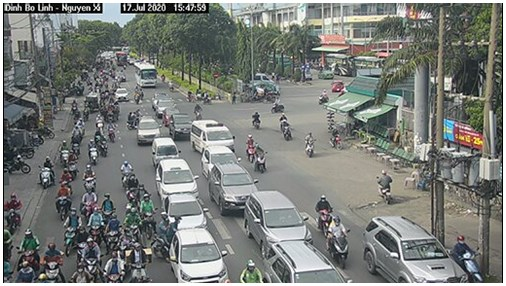xe_cuu_thuong: (189, 120, 235, 151)
xe_hoi: (362, 215, 465, 284), (241, 192, 313, 249), (170, 230, 229, 283), (208, 162, 258, 214), (155, 158, 202, 198), (163, 193, 210, 230), (200, 147, 238, 171), (150, 137, 180, 165), (137, 118, 162, 145), (169, 115, 190, 136)
xe_may: (454, 232, 485, 282), (325, 217, 353, 270), (42, 238, 66, 283), (60, 206, 82, 252), (127, 243, 153, 281), (18, 227, 40, 269), (4, 191, 26, 232), (140, 192, 158, 240), (84, 236, 104, 279), (102, 211, 122, 251), (121, 203, 142, 240), (314, 191, 332, 234), (373, 169, 395, 204), (103, 252, 125, 284), (54, 179, 71, 219), (39, 156, 56, 189), (252, 142, 269, 174), (82, 181, 96, 218), (303, 131, 319, 162), (120, 156, 134, 190), (243, 133, 258, 162), (105, 120, 118, 142), (87, 138, 98, 164), (283, 119, 293, 140), (251, 111, 261, 131), (194, 102, 202, 119)
